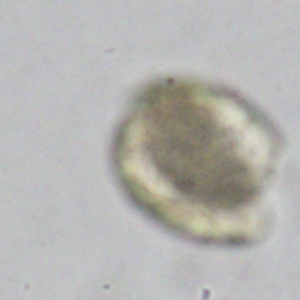Fasciola_hepatica_egg: (107, 76, 288, 244)
